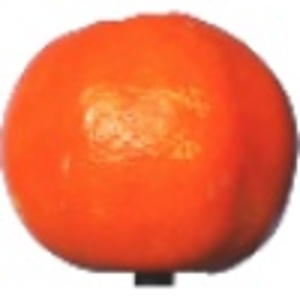tangerina: (2, 9, 300, 287)
